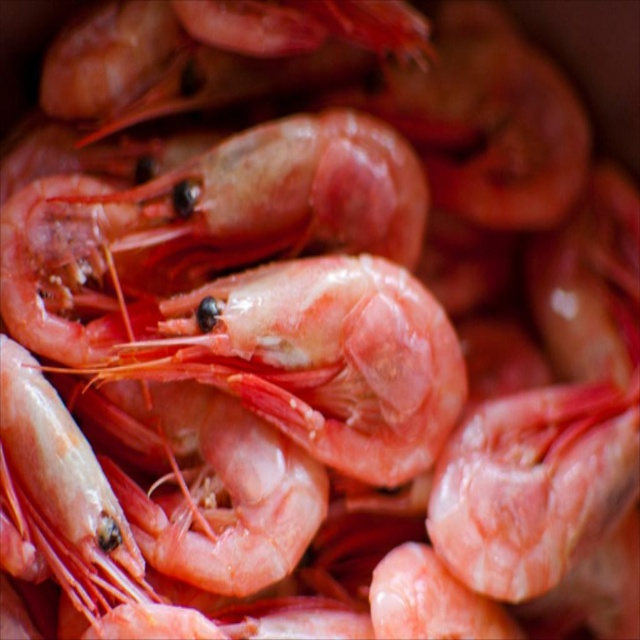Shrimp: (1, 2, 640, 639)
